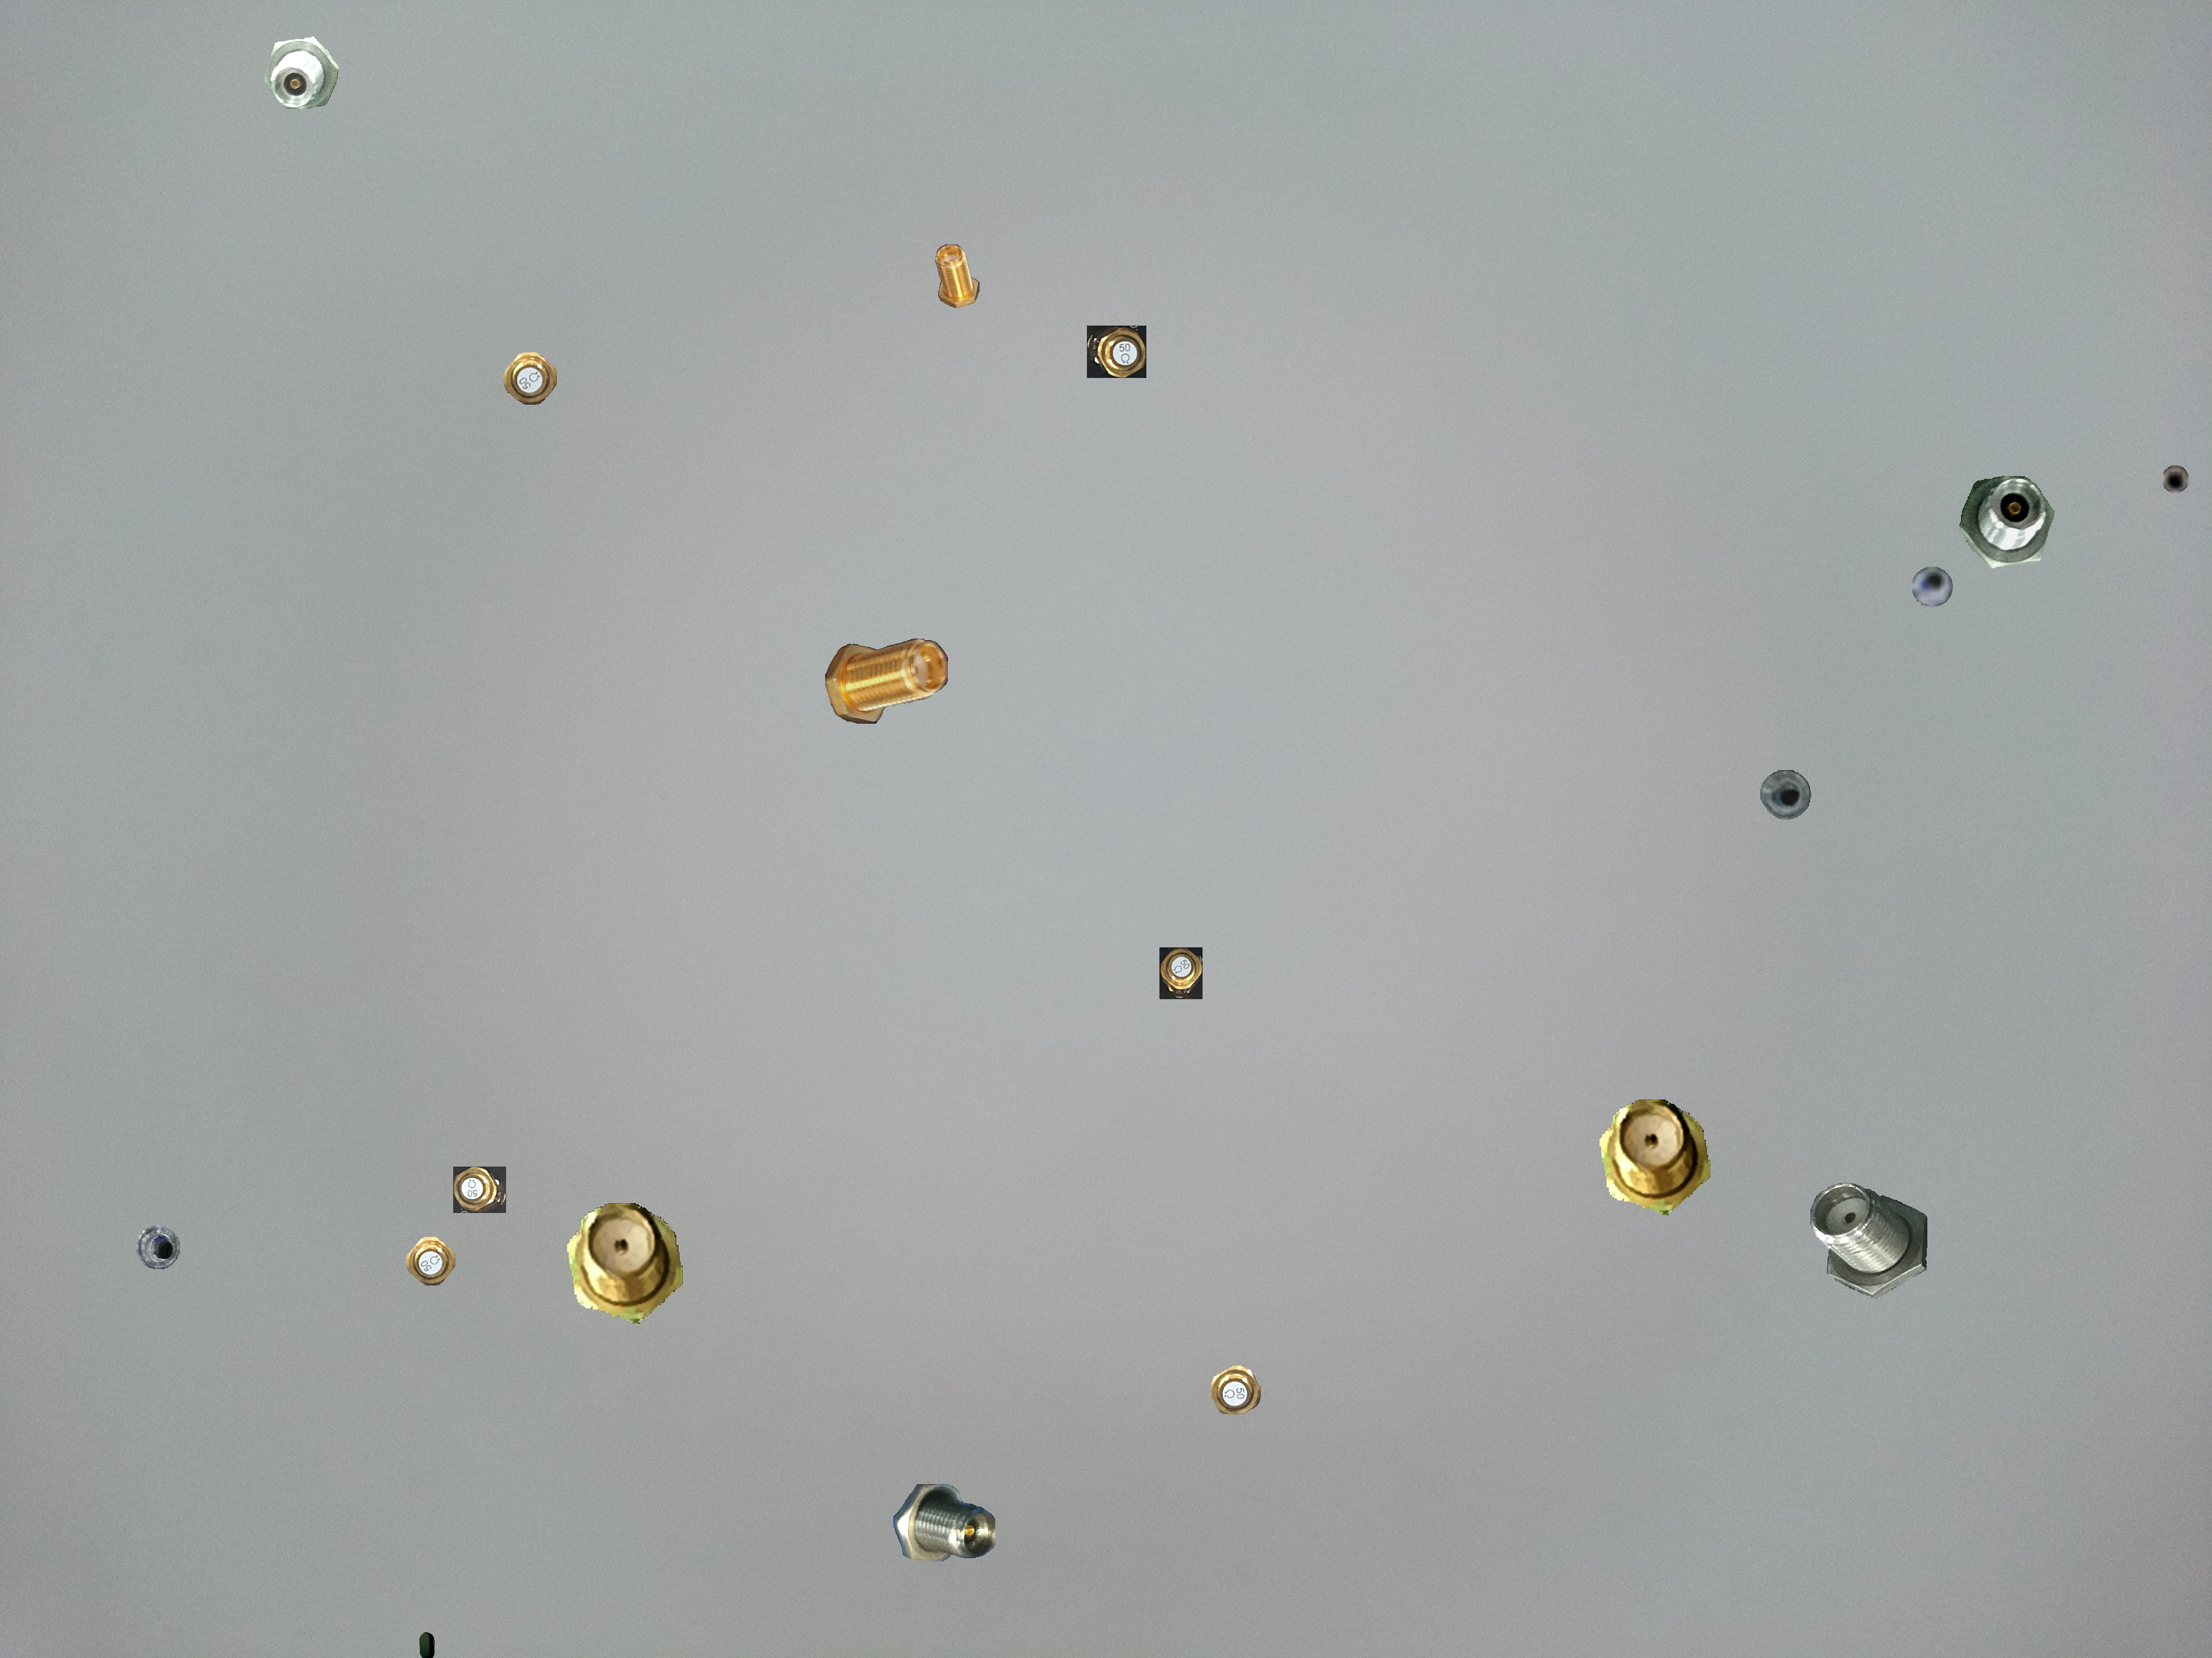Cgoldcap: (1087, 326, 1146, 377), (503, 352, 556, 404), (1211, 1366, 1260, 1414), (453, 1167, 506, 1212), (406, 1237, 455, 1285), (1159, 947, 1202, 999)
Cpin_wNut: (567, 1203, 682, 1323), (1811, 1183, 1927, 1298), (1600, 1100, 1710, 1215), (825, 639, 947, 723), (1959, 476, 2054, 568), (893, 1484, 995, 1561), (264, 37, 338, 109), (935, 244, 979, 307)
